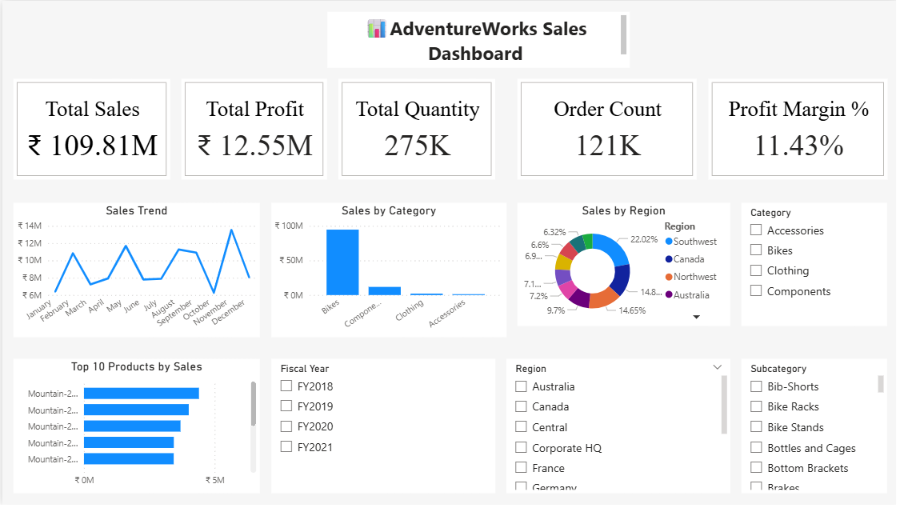

This screenshot's page, from the dashboard's own definition file:
{"tool":"powerbi","page":{"name":"Page 1","canvas":[1280,720],"ordinal":0},"visuals":[{"type":"cardVisual","fields":{"Data":["Sales.Total Sales"]},"box":[16,112,224,144],"z":0},{"type":"cardVisual","fields":{"Data":["Sales.Total Profit"]},"box":[256,112,208,144],"z":1000},{"type":"cardVisual","fields":{"Data":["Sales.Total Quantity"]},"box":[480,112,224,144],"z":2000},{"type":"cardVisual","fields":{"Data":["Sales.Order Count"]},"box":[736,112,256,144],"z":3000},{"type":"cardVisual","fields":{"Data":["Sales.Profit Margin %"]},"box":[1008,112,256,144],"z":4000},{"type":"textbox","box":[464,16,432,80],"z":5000},{"type":"lineChart","title":"Sales Trend","fields":{"Category":["Date.Full Date.Variation.Date Hierarchy.Month"],"Y":["Sales.Total Sales"]},"box":[16,288,352,192],"z":6000},{"type":"clusteredColumnChart","title":"Sales by Category","fields":{"Category":["Product.Category"],"Y":["Sales.Total Sales"]},"box":[384,288,336,192],"z":7000},{"type":"donutChart","title":"Sales by Region","fields":{"Category":["SalesTerritory.Region"],"Y":["Sales.Total Sales"]},"box":[736,288,304,176],"z":8000},{"type":"clusteredBarChart","title":"Top 10 Products by Sales","fields":{"Category":["Product.Product"],"Y":["Sales.Total Sales"]},"box":[16,512,352,192],"z":9000},{"type":"slicer","fields":{"Values":["Date.Fiscal Year"]},"box":[384,512,320,192],"z":10000},{"type":"slicer","fields":{"Values":["SalesTerritory.Region"]},"box":[720,512,320,192],"z":11000},{"type":"slicer","fields":{"Values":["Product.Category"]},"box":[1056,288,208,176],"z":12000},{"type":"slicer","fields":{"Values":["Product.Subcategory"]},"box":[1056,512,208,192],"z":13000}]}

Visuals, with their boxes in screenshot pixels (x1, y1, x2, y2), scaled from the page's 1280x720 canvas onto the 897x505 screenshot:
cardVisual - Sales.Total Sales: 11,79,168,180
cardVisual - Sales.Total Profit: 179,79,325,180
cardVisual - Sales.Total Quantity: 336,79,493,180
cardVisual - Sales.Order Count: 516,79,695,180
cardVisual - Sales.Profit Margin %: 706,79,886,180
textbox: 325,11,628,67
"Sales Trend" lineChart: 11,202,258,337
"Sales by Category" clusteredColumnChart: 269,202,505,337
"Sales by Region" donutChart: 516,202,729,325
"Top 10 Products by Sales" clusteredBarChart: 11,359,258,494
slicer - Date.Fiscal Year: 269,359,493,494
slicer - SalesTerritory.Region: 505,359,729,494
slicer - Product.Category: 740,202,886,325
slicer - Product.Subcategory: 740,359,886,494
